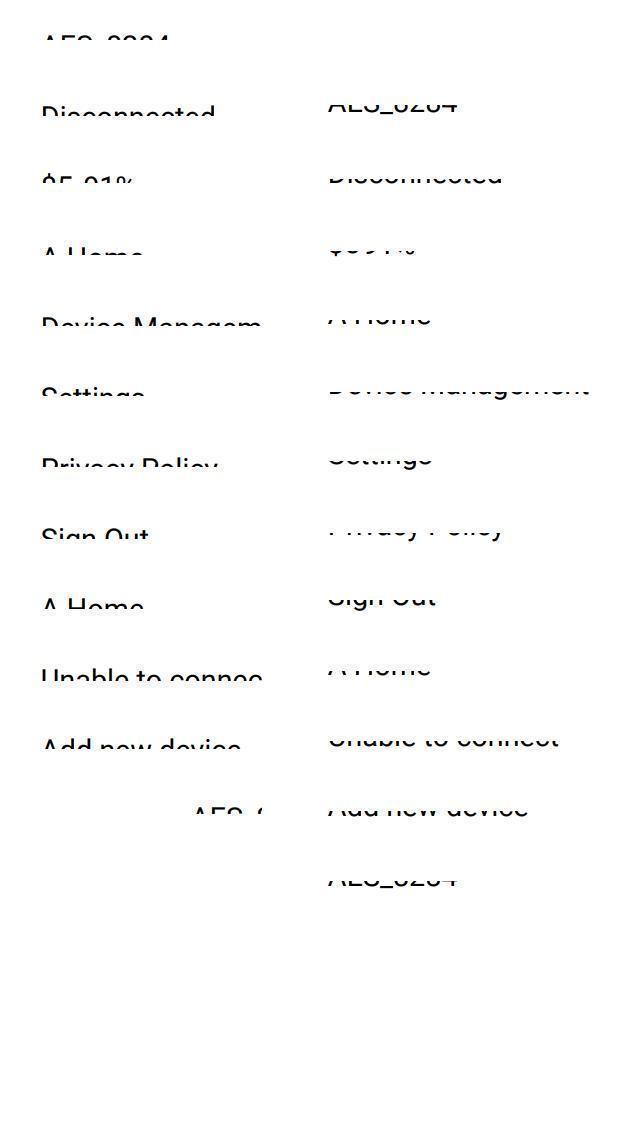WS3: (321, 385, 604, 404), (35, 666, 271, 684), (35, 101, 224, 123), (325, 738, 568, 754), (42, 738, 245, 757), (36, 458, 227, 477), (32, 316, 266, 331), (322, 172, 509, 190), (322, 805, 536, 820), (326, 526, 504, 544), (324, 594, 450, 616), (322, 100, 466, 119), (40, 26, 174, 46), (322, 874, 463, 892), (37, 526, 160, 546), (323, 662, 435, 680), (319, 312, 437, 328), (324, 454, 441, 470), (32, 170, 134, 187), (36, 385, 150, 400), (39, 599, 152, 614), (324, 244, 418, 262), (190, 800, 270, 820), (39, 246, 148, 260)
